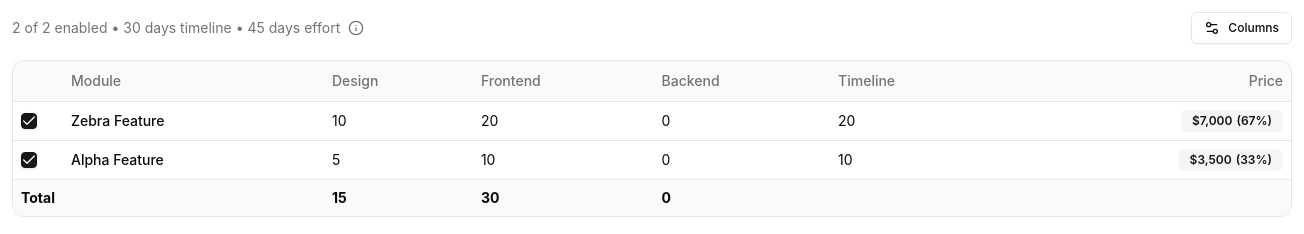
Test case: Integration Tests › Module Sorting Integration › should show sort direction indicator
The image size is (1304, 234).
Step 1. Click the column heading "Module" → (96, 80), box [63,61,324,101]
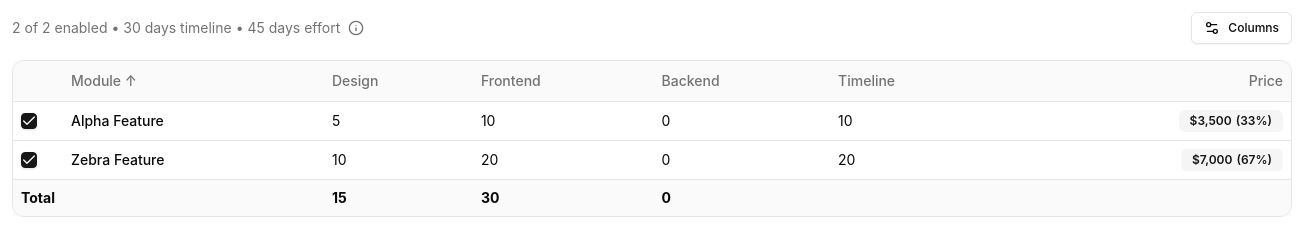
Result: the column heading "Module ↑" is shown
Step 2. Click the column heading "Module ↑" → (96, 80), box [63,61,324,101]
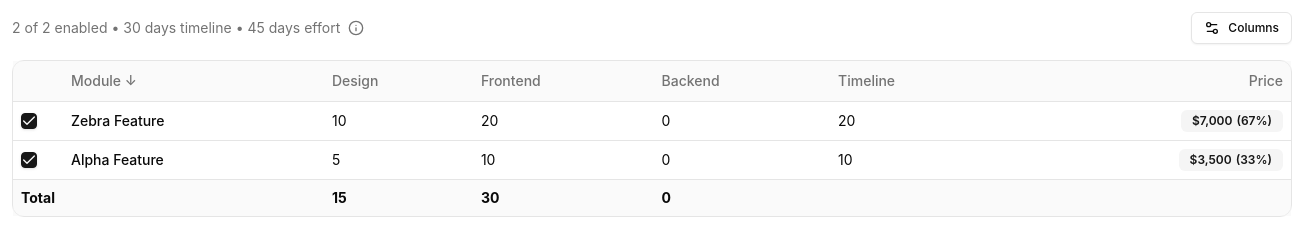
Result: the column heading "Module ↓" is shown at [63,61,324,101]
